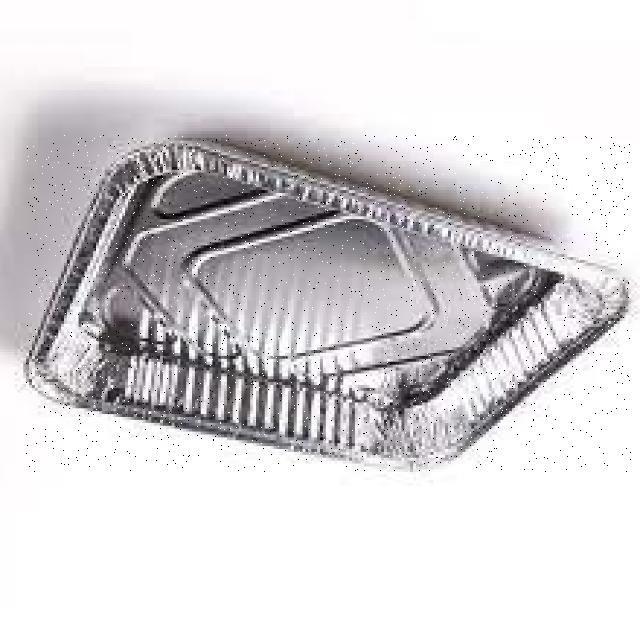metal: (26, 135, 631, 471)
